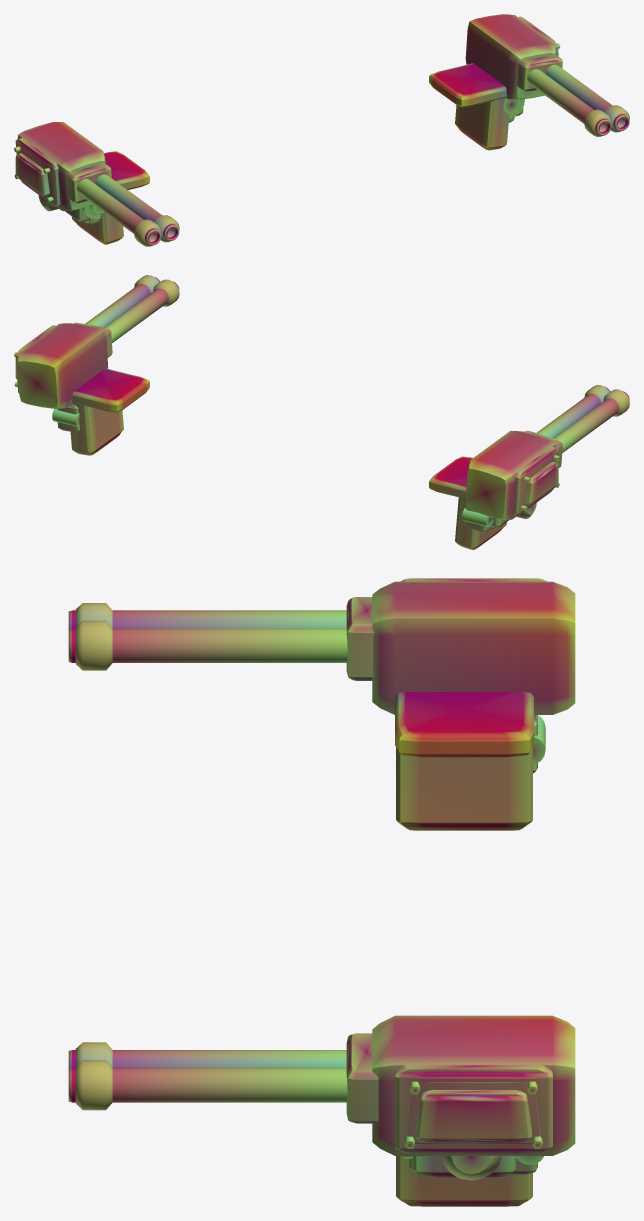
The model's file is llm_gen_shoulder_pods_111_75abf6.glb.
The picture shows the model from 3 angles, top to bottom: view 1: azimuth 30°, elevation 25°; view 2: azimuth 150°, elevation 25°; view 3: azimuth 270°, elevation 25°; orthographic projection. The views are drawn at different scales.
Parts seen in each view (by area): view 1: cannon_cradle_1_adapter_dark_r, adapter_shoulder_yoke_r, cannon_cradle_1_adapter_dark_l, adapter_shoulder_yoke_l, beam_barrel_out_4_barrel_metal_l, beam_barrel_in_3_barrel_metal_r, beam_barrel_in_3_barrel_metal_l, beam_barrel_out_4_barrel_metal_r, cannon_side_shroud_blue_8_barrel_metal_l, adapter_sub_heatsink_bezel_dark_7_adapter_dark_l, adapter_sub_mantlet_dark_2_adapter_dark_l, adapter_sub_mantlet_dark_2_adapter_dark_r (+4 smaller); view 2: cannon_cradle_1_adapter_dark_r, cannon_cradle_1_adapter_dark_l, adapter_shoulder_yoke_r, adapter_shoulder_yoke_l, beam_barrel_out_4_barrel_metal_l, beam_barrel_in_3_barrel_metal_r, cannon_side_shroud_blue_8_barrel_metal_l, beam_barrel_in_3_barrel_metal_l, beam_barrel_out_4_barrel_metal_r, adapter_sub_heatsink_bezel_dark_7_adapter_dark_l; view 3: cannon_cradle_1_adapter_dark_l, adapter_shoulder_yoke_l, cannon_cradle_1_adapter_dark_r, beam_barrel_out_4_barrel_metal_r, beam_barrel_in_3_barrel_metal_l, cannon_side_shroud_blue_8_barrel_metal_r, adapter_sub_heatsink_bezel_dark_7_adapter_dark_r, adapter_shoulder_yoke_r, beam_barrel_out_4_barrel_metal_l, beam_barrel_in_3_barrel_metal_r, adapter_sub_mantlet_dark_2_adapter_dark_r, adapter_sub_mantlet_dark_2_adapter_dark_l (+3 smaller).
Boxes of the visible parts, x1,y1,x2,y2 form: cannon_cradle_1_adapter_dark_r: (465,14,556,99); adapter_shoulder_yoke_r: (429,63,524,150); cannon_cradle_1_adapter_dark_l: (17,122,106,210); adapter_shoulder_yoke_l: (65,151,149,244); beam_barrel_out_4_barrel_metal_l: (77,179,161,245); beam_barrel_in_3_barrel_metal_r: (527,69,611,135); beam_barrel_in_3_barrel_metal_l: (95,174,179,240); beam_barrel_out_4_barrel_metal_r: (545,64,629,130); cannon_side_shroud_blue_8_barrel_metal_l: (14,146,53,202); adapter_sub_heatsink_bezel_dark_7_adapter_dark_l: (15,138,60,206); adapter_sub_mantlet_dark_2_adapter_dark_l: (65,162,111,203); adapter_sub_mantlet_dark_2_adapter_dark_r: (517,54,562,91); cannon_cradle_1_adapter_dark_r: (17,323,107,408); cannon_cradle_1_adapter_dark_l: (465,430,555,519); adapter_shoulder_yoke_r: (70,368,149,455); adapter_shoulder_yoke_l: (429,456,508,549); beam_barrel_out_4_barrel_metal_l: (553,391,629,452); beam_barrel_in_3_barrel_metal_r: (105,281,179,342); cannon_side_shroud_blue_8_barrel_metal_l: (520,455,560,511); beam_barrel_in_3_barrel_metal_l: (537,386,610,437); beam_barrel_out_4_barrel_metal_r: (85,277,159,327); adapter_sub_heatsink_bezel_dark_7_adapter_dark_l: (513,446,558,515); cannon_cradle_1_adapter_dark_l: (372,581,575,714); adapter_shoulder_yoke_l: (395,692,533,830); cannon_cradle_1_adapter_dark_r: (372,1015,575,1155); beam_barrel_out_4_barrel_metal_r: (68,1067,347,1102); beam_barrel_in_3_barrel_metal_l: (68,628,347,662); cannon_side_shroud_blue_8_barrel_metal_r: (404,1081,542,1148); adapter_sub_heatsink_bezel_dark_7_adapter_dark_r: (394,1065,552,1153); adapter_shoulder_yoke_r: (396,1156,532,1206); beam_barrel_out_4_barrel_metal_l: (68,610,346,628); beam_barrel_in_3_barrel_metal_r: (68,1050,346,1068); adapter_sub_mantlet_dark_2_adapter_dark_r: (346,1033,378,1123); adapter_sub_mantlet_dark_2_adapter_dark_l: (346,597,374,680).
Size of the model in its own units: 112 by 20.42 by 47.36.
